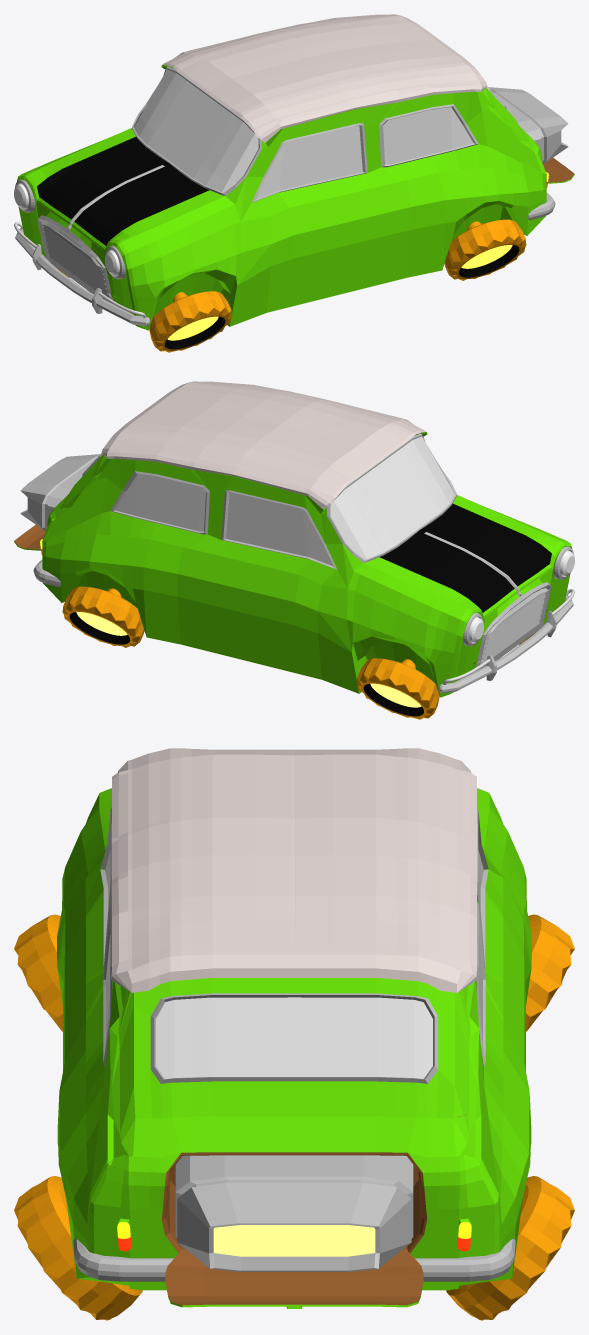
The model's file is Mini.fbx.
3 renders of one model, top to bottom at view 1: azimuth 30°, elevation 25°; view 2: azimuth 150°, elevation 25°; view 3: azimuth 270°, elevation 25°, orthographic. The views are drawn at different scales.
Parts seen in each view (by area): view 1: Cube, Cylinder.002, Cube.005, Cube.002, Cylinder.001, Cube.001; view 2: Cube, Cylinder.002, Cube.005, Cube.002, Cylinder.001, Cube.001; view 3: Cube, Cube.005, Cylinder.002, Cube.001, Cube.006, Cylinder.
Boxes of the visible parts, <box> form: Cube: <box>17,14,546,330</box>; Cylinder.002: <box>54,219,526,352</box>; Cube.005: <box>488,87,568,164</box>; Cube.002: <box>15,228,150,326</box>; Cylinder.001: <box>14,179,125,279</box>; Cube.001: <box>543,158,574,183</box>; Cube: <box>42,381,571,697</box>; Cylinder.002: <box>62,586,534,719</box>; Cube.005: <box>20,454,100,531</box>; Cube.002: <box>438,595,573,693</box>; Cylinder.001: <box>463,546,574,646</box>; Cube.001: <box>14,525,45,550</box>; Cube: <box>57,748,531,1290</box>; Cube.005: <box>175,1155,413,1271</box>; Cylinder.002: <box>14,914,574,1320</box>; Cube.001: <box>165,1252,423,1308</box>; Cube.006: <box>73,1238,515,1281</box>; Cylinder: <box>117,1222,471,1251</box>.
Bounding box in the file's own units: 668 × 283 × 368.
